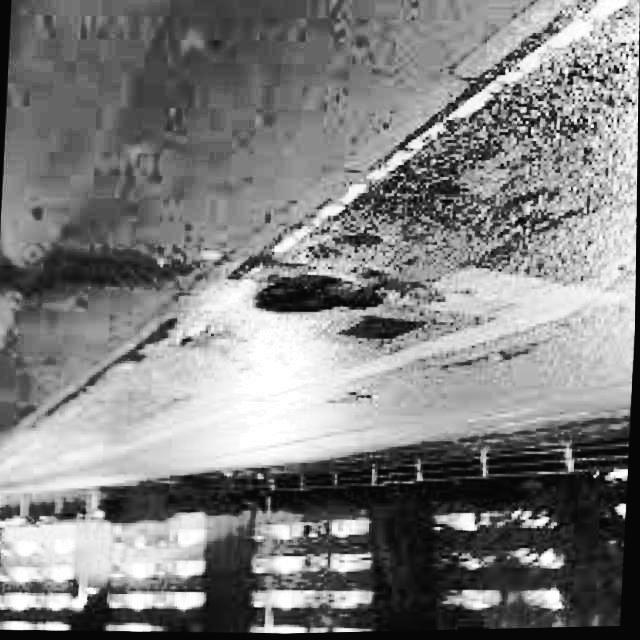Pothole: (30, 234, 163, 307), (246, 257, 391, 322), (172, 315, 226, 362), (341, 380, 382, 417)
